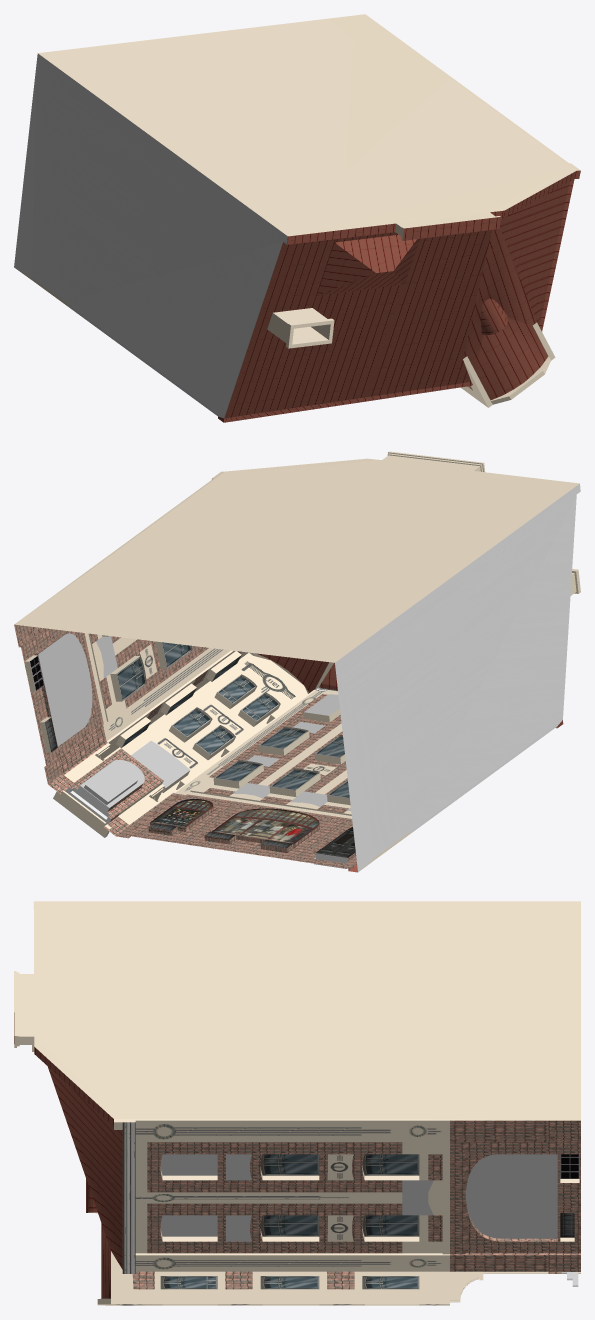
The model's file is viru_19.obj.
The picture shows the model from 3 angles, top to bottom: view 1: azimuth 30°, elevation 25°; view 2: azimuth 150°, elevation 25°; view 3: azimuth 270°, elevation 25°; orthographic projection. The views are drawn at different scales.
Parts seen in each view (by area): view 1: Box001; view 2: Box001; view 3: Box001.
Part boxes in pixels (bbox=[...]): Box001: bbox=[14, 14, 580, 422]; Box001: bbox=[14, 451, 580, 872]; Box001: bbox=[14, 901, 580, 1305].
Bounding box in the file's own units: 15.4 × 10.63 × 19.59.
